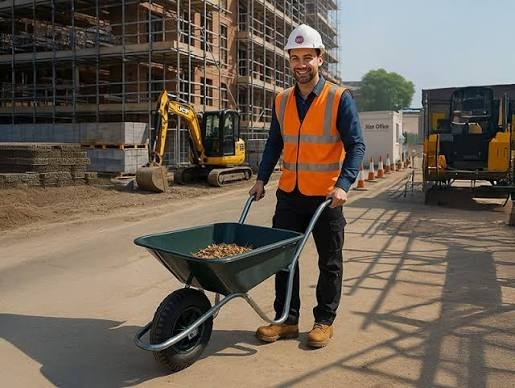excavator: (128, 83, 254, 198)
hardhat: (276, 20, 330, 56)
machinery: (412, 71, 511, 218)
person: (250, 10, 371, 357)
safety_vest: (266, 84, 348, 200)
